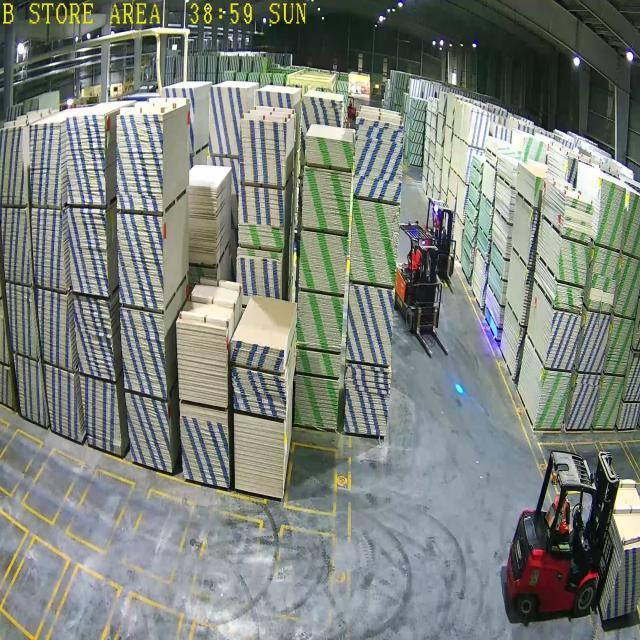material_stack: (233, 412, 285, 497), (350, 200, 400, 286), (354, 118, 404, 203), (346, 284, 395, 366), (344, 364, 392, 436), (303, 166, 352, 233), (297, 231, 348, 295), (232, 367, 286, 419), (298, 291, 344, 351), (295, 375, 339, 429), (533, 370, 572, 429), (545, 311, 582, 370), (588, 246, 620, 313), (596, 179, 626, 250), (578, 311, 611, 372), (230, 340, 284, 374), (604, 316, 635, 375), (568, 375, 600, 429), (594, 376, 625, 429), (305, 135, 353, 169), (557, 239, 590, 286), (562, 195, 594, 241), (296, 350, 340, 378), (554, 283, 585, 314)
